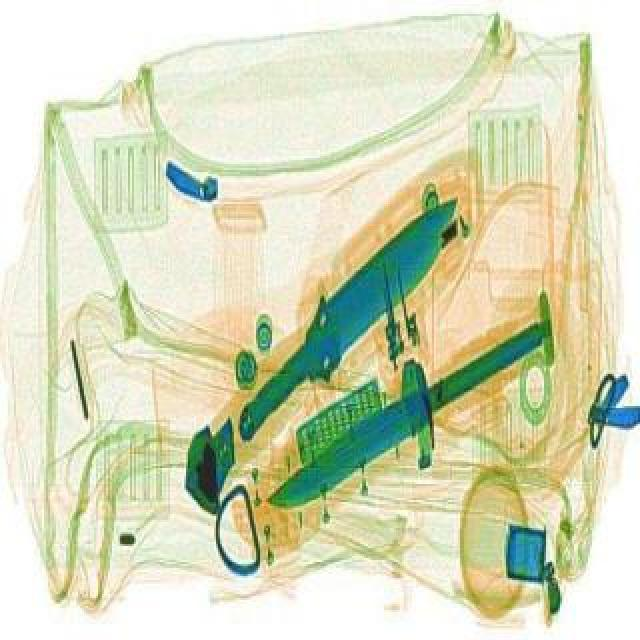knife: (236, 266, 592, 542), (202, 164, 486, 458)
